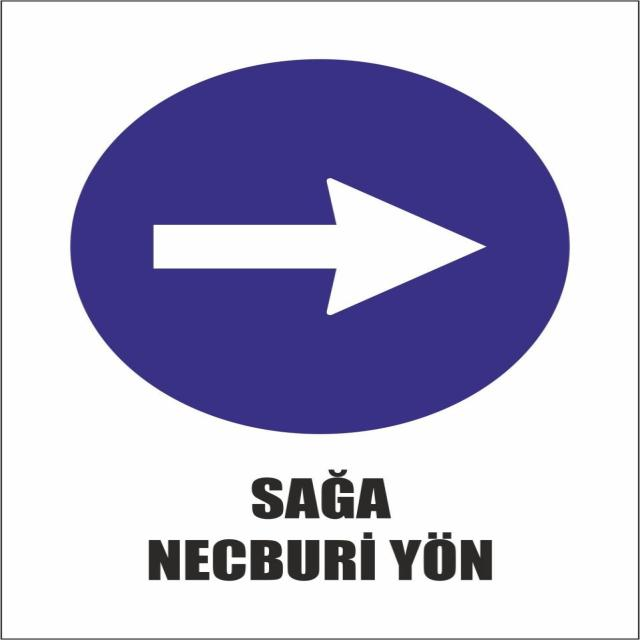SensObligatoire: (68, 58, 574, 436)
